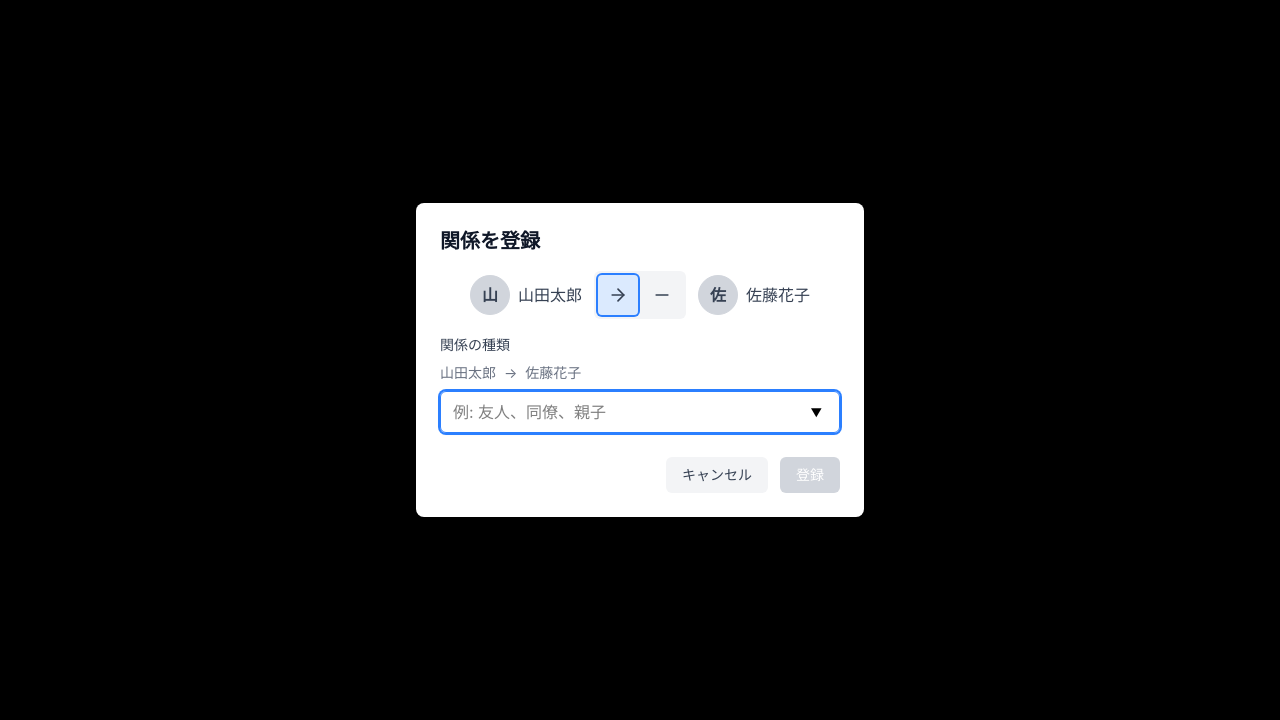
Test: RelationshipRegistrationModal › 方向インジケーター › 無向選択時に「—」インジケーターが表示される
Click the button named "無向（矢印なし）".
click(662, 295)  # box [642,275,682,315]
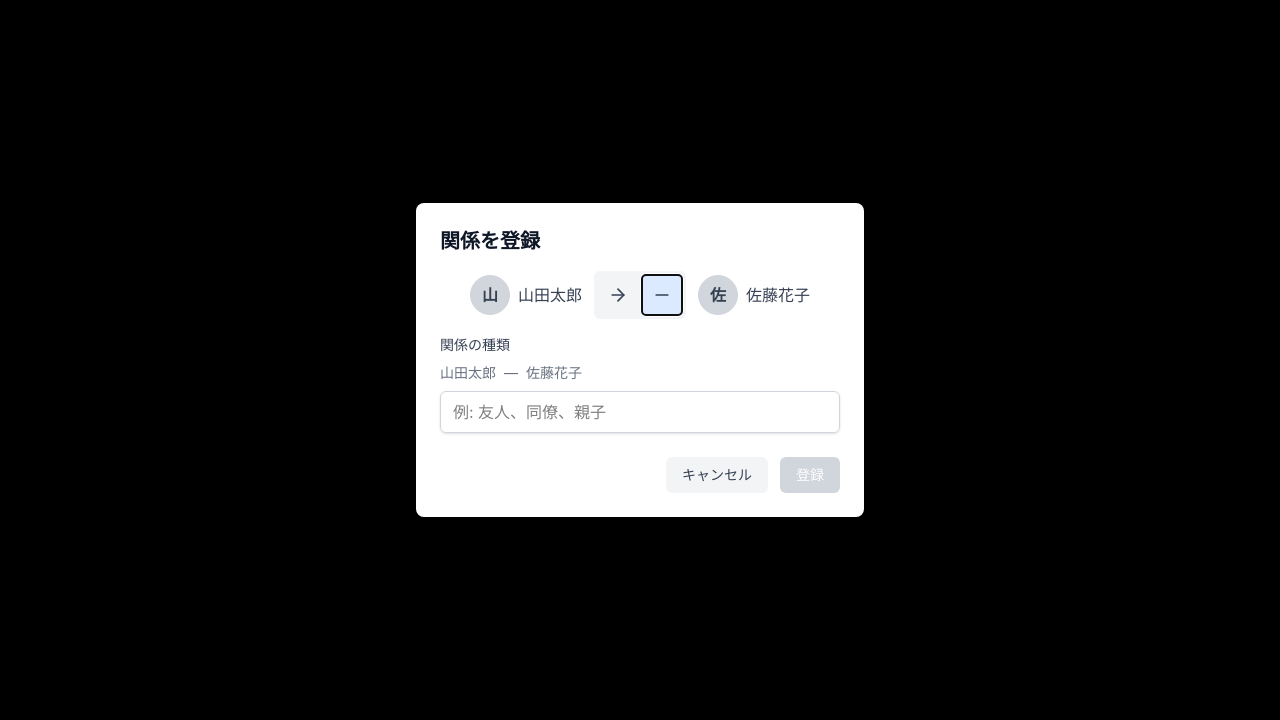
Expected: the text "—" is shown, [504,363,518,383]
